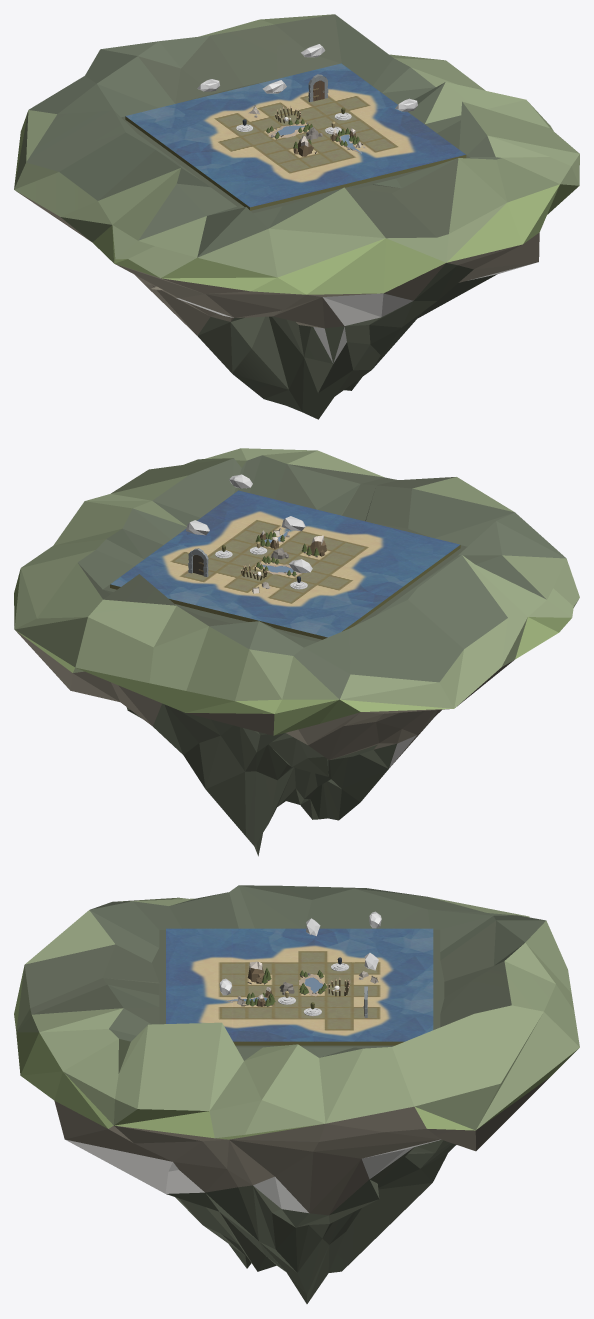
The model's file is Level4.fbx.
The picture shows the model from 3 angles, top to bottom: view 1: azimuth 30°, elevation 25°; view 2: azimuth 150°, elevation 25°; view 3: azimuth 270°, elevation 25°; orthographic projection. The views are drawn at different scales.
Parts seen in each view (by area): view 1: Island, pCube1; view 2: Island, pCube1; view 3: Island, pCube1.
Part boxes in pixels (left/top/right/bottom): Island: left=14, top=14, right=579, bottom=419; pCube1: left=125, top=63, right=466, bottom=210; Island: left=14, top=448, right=579, bottom=856; pCube1: left=110, top=490, right=460, bottom=639; Island: left=14, top=885, right=579, bottom=1303; pCube1: left=166, top=928, right=433, bottom=1045.
Bounding box in the file's own units: 4099 × 2895 × 4089.
